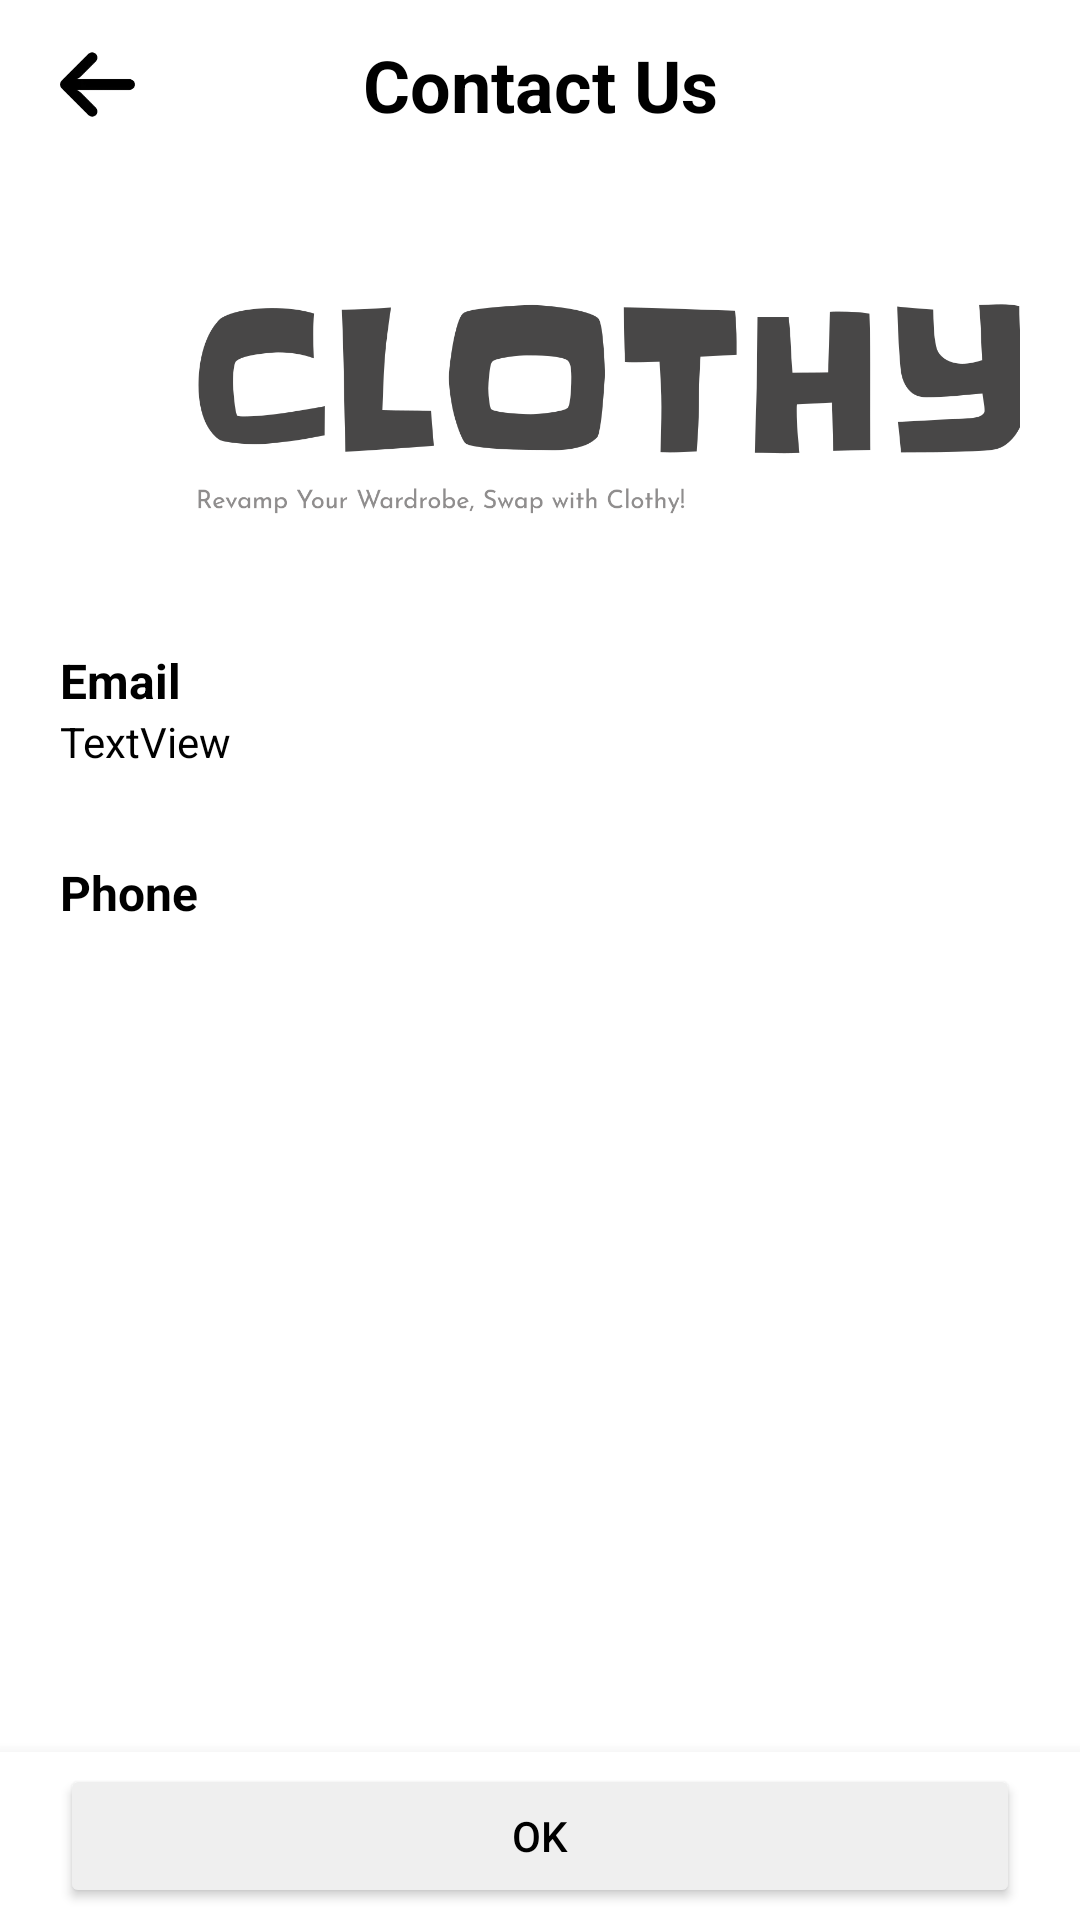

Icons on this 1080 x 1920 Android screen, each with the point to tap as (x=x, y=y):
back: (x=97, y=84)
